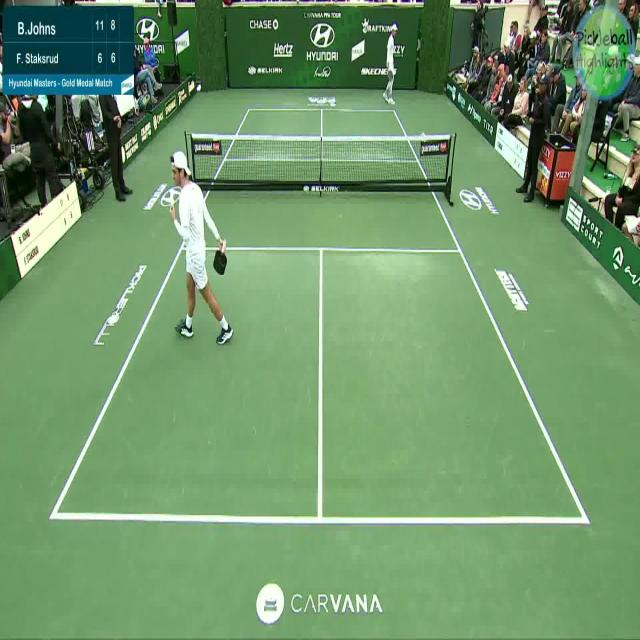Court: (54, 108, 588, 523)
